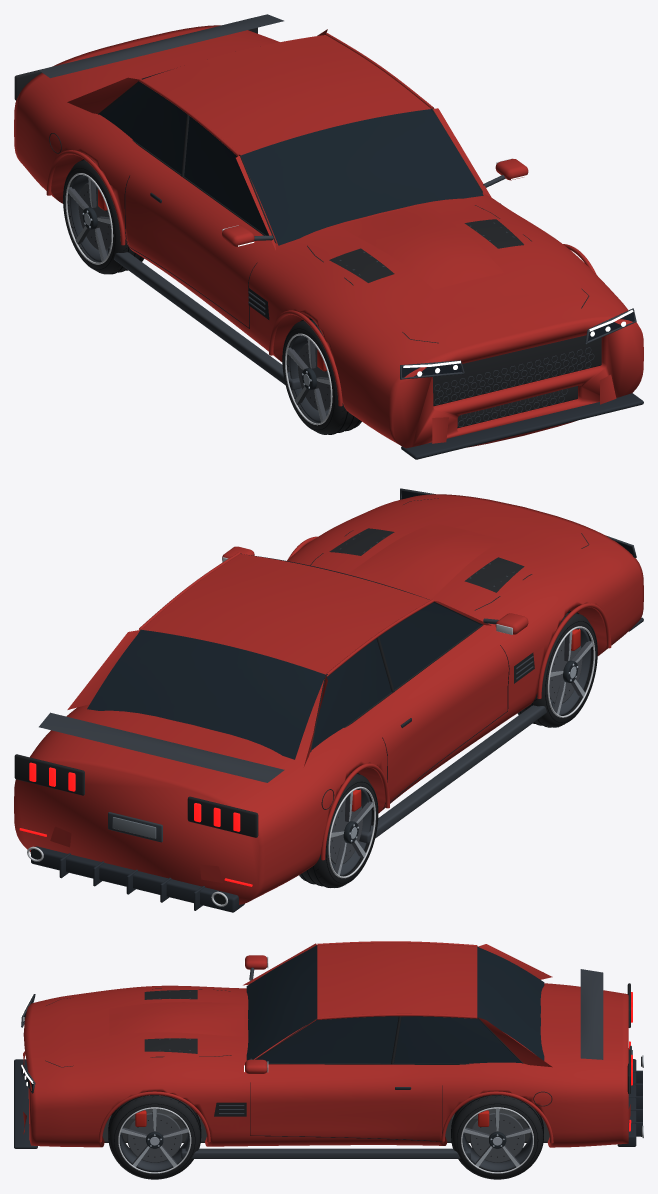
The model's file is mustang.glb.
3 views of the same model, one above another, from view 1: azimuth 30°, elevation 25°; view 2: azimuth 150°, elevation 25°; view 3: azimuth 270°, elevation 25° (orthographic). The views are drawn at different scales.
Visible parts, largest first — view 1: Web_Chassis_Rig_mustang_Exterior_NewPaint, Web_Chassis_Rig_Detail_Glass_Tinted, Web_Chassis_Rig_Rubber, Web_Chassis_Rig_Graphite metal, Web_Chassis_Rig_Finish_CarbonWeave, Web_Wheel_FR_Rubber, Web_Wheel_RR_Rubber, Brake rotor.001, Brake rotor, Finish_SplitSpokes_FR, Finish_SplitSpokes_RR, Web_Wheel_RR_Graphite metal (+2 smaller); view 2: Web_Chassis_Rig_mustang_Exterior_NewPaint, Web_Chassis_Rig_Detail_Glass_Tinted, Web_Chassis_Rig_Graphite metal, Web_Chassis_Rig_Rubber, Web_Chassis_Rig_Finish_CarbonWeave, Web_Wheel_FR_Rubber, Web_Wheel_RR_Rubber, Web_Chassis_Rig_Red LED, Brake rotor.001, Brake rotor, Finish_SplitSpokes_FR, Finish_SplitSpokes_RR (+2 smaller); view 3: Web_Chassis_Rig_mustang_Exterior_NewPaint, Web_Chassis_Rig_Detail_Glass_Tinted, Web_Chassis_Rig_Graphite metal, Web_Chassis_Rig_Rubber, Web_Wheel_FL_Rubber, Web_Wheel_RL_Rubber, Web_Chassis_Rig_Finish_CarbonWeave, Brake rotor.003, Brake rotor.002, Continuous_central_floor_pan, Web_Wheel_FL_Graphite metal, Web_Wheel_RL_Graphite metal (+6 smaller).
Boxes of the visible parts, left/top/right/bottom form: Web_Chassis_Rig_mustang_Exterior_NewPaint: left=14, top=25, right=643, bottom=448; Web_Chassis_Rig_Detail_Glass_Tinted: left=100, top=70, right=483, bottom=245; Web_Chassis_Rig_Rubber: left=14, top=18, right=601, bottom=428; Web_Chassis_Rig_Graphite metal: left=39, top=14, right=636, bottom=427; Web_Chassis_Rig_Finish_CarbonWeave: left=401, top=393, right=643, bottom=459; Web_Wheel_FR_Rubber: left=282, top=318, right=361, bottom=434; Web_Wheel_RR_Rubber: left=63, top=159, right=144, bottom=274; Brake rotor.001: left=297, top=343, right=330, bottom=411; Brake rotor: left=78, top=182, right=111, bottom=250; Finish_SplitSpokes_FR: left=287, top=338, right=329, bottom=422; Finish_SplitSpokes_RR: left=68, top=178, right=110, bottom=261; Web_Wheel_RR_Graphite metal: left=69, top=175, right=107, bottom=262; Web_Chassis_Rig_mustang_Exterior_NewPaint: left=14, top=494, right=643, bottom=904; Web_Chassis_Rig_Detail_Glass_Tinted: left=87, top=554, right=480, bottom=759; Web_Chassis_Rig_Graphite metal: left=39, top=488, right=636, bottom=843; Web_Chassis_Rig_Rubber: left=14, top=498, right=589, bottom=904; Web_Chassis_Rig_Finish_CarbonWeave: left=31, top=617, right=643, bottom=912; Web_Wheel_FR_Rubber: left=517, top=611, right=597, bottom=727; Web_Wheel_RR_Rubber: left=299, top=773, right=378, bottom=887; Web_Chassis_Rig_Red LED: left=19, top=762, right=252, bottom=886; Brake rotor.001: left=549, top=639, right=582, bottom=703; Brake rotor: left=330, top=799, right=362, bottom=864; Finish_SplitSpokes_FR: left=550, top=630, right=592, bottom=714; Finish_SplitSpokes_RR: left=331, top=792, right=373, bottom=875; Web_Chassis_Rig_mustang_Exterior_NewPaint: left=23, top=941, right=630, bottom=1147; Web_Chassis_Rig_Detail_Glass_Tinted: left=246, top=946, right=544, bottom=1063; Web_Chassis_Rig_Graphite metal: left=21, top=967, right=631, bottom=1158; Web_Chassis_Rig_Rubber: left=45, top=945, right=642, bottom=1136; Web_Wheel_FL_Rubber: left=109, top=1091, right=200, bottom=1179; Web_Wheel_RL_Rubber: left=451, top=1095, right=543, bottom=1179; Web_Chassis_Rig_Finish_CarbonWeave: left=14, top=1059, right=642, bottom=1148; Brake rotor.003: left=127, top=1113, right=182, bottom=1162; Brake rotor.002: left=470, top=1113, right=524, bottom=1162; Continuous_central_floor_pan: left=102, top=1109, right=549, bottom=1142; Web_Wheel_FL_Graphite metal: left=119, top=1109, right=189, bottom=1172; Web_Wheel_RL_Graphite metal: left=462, top=1109, right=532, bottom=1172.
Size of the model in its own units: 2.12 by 1.38 by 5.
